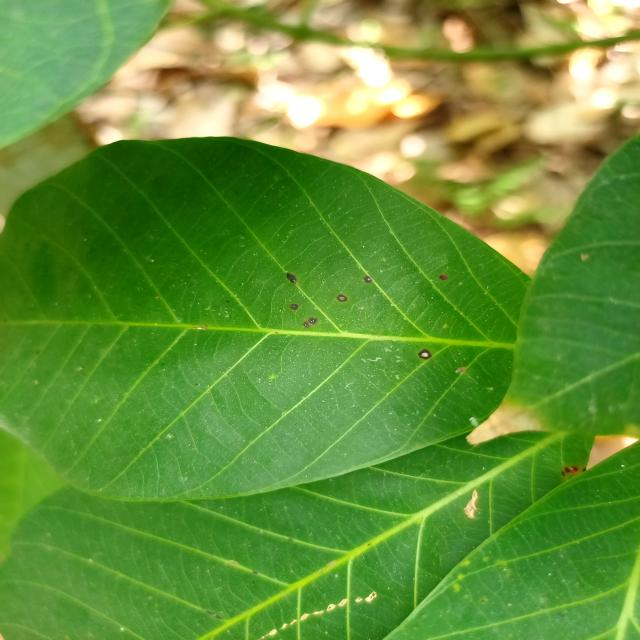Colletotrichum: (418, 349, 432, 359), (337, 294, 348, 302), (308, 317, 318, 325), (363, 276, 372, 283), (438, 274, 448, 280), (303, 321, 310, 328), (290, 304, 298, 310)
Leaf-Blight: (466, 401, 544, 445), (464, 490, 478, 518)
